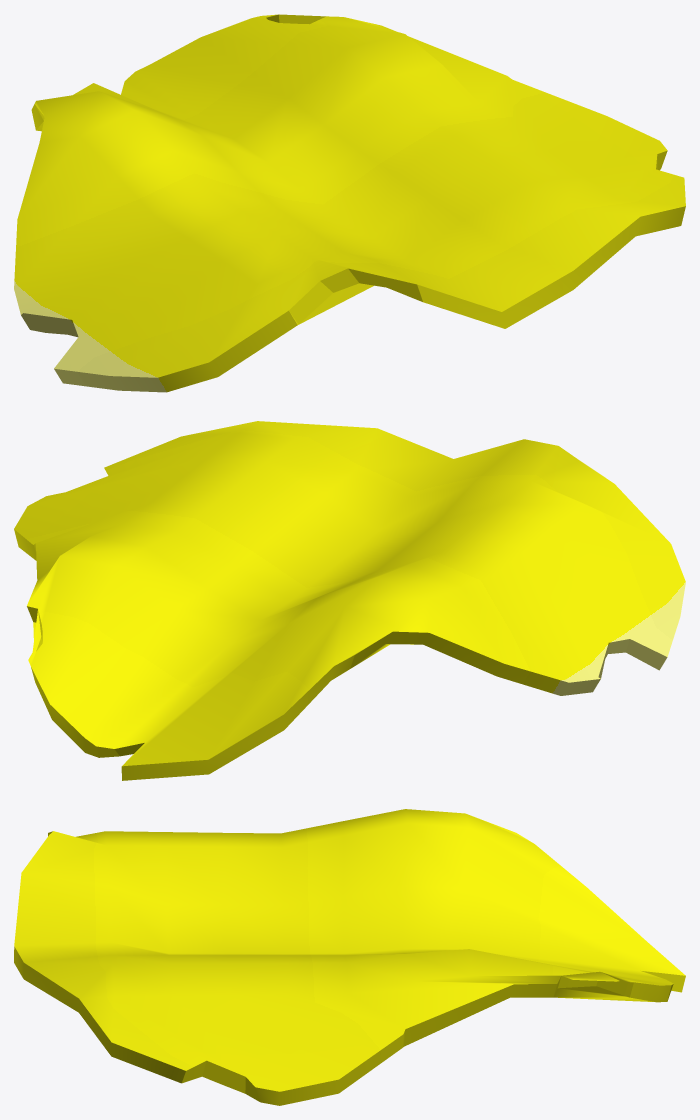
Rendered from BasicLeaf_PineappleYellow.obj.
3 views of the same model, one above another, from view 1: azimuth 30°, elevation 25°; view 2: azimuth 150°, elevation 25°; view 3: azimuth 270°, elevation 25° (orthographic). The views are drawn at different scales.
Visible parts, largest first — view 1: BasicLeaf_PinappleYellow; view 2: BasicLeaf_PinappleYellow; view 3: BasicLeaf_PinappleYellow.
Boxes of the visible parts, x1=… form: BasicLeaf_PinappleYellow: x1=14, y1=14, x2=685, y2=392; BasicLeaf_PinappleYellow: x1=14, y1=421, x2=685, y2=780; BasicLeaf_PinappleYellow: x1=14, y1=809, x2=685, y2=1105.
Size of the model in its own units: 6.78 by 1.4 by 6.94.
